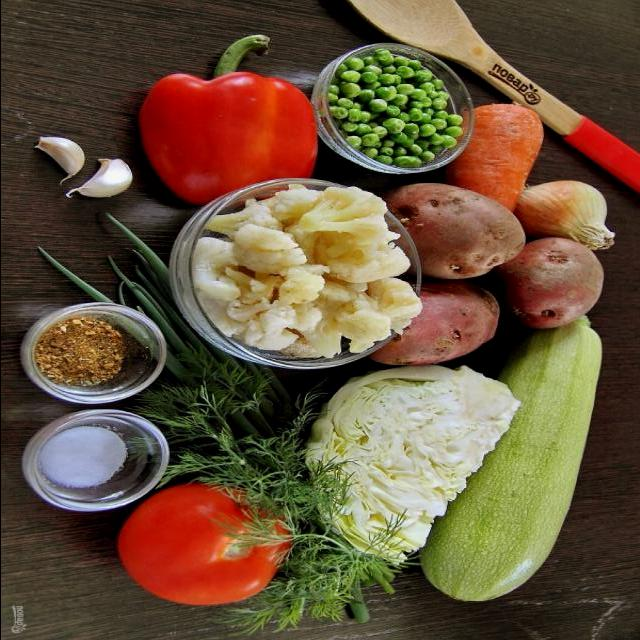bell_pepper: (141, 18, 303, 202)
cabbage: (320, 373, 522, 549)
carrot: (468, 108, 542, 190)
garlic: (32, 136, 138, 204)
onion: (524, 188, 607, 235)
potato: (407, 183, 522, 282), (373, 282, 507, 356), (511, 248, 609, 322)
tomato: (118, 483, 294, 603)
zucchini: (433, 322, 607, 597)
